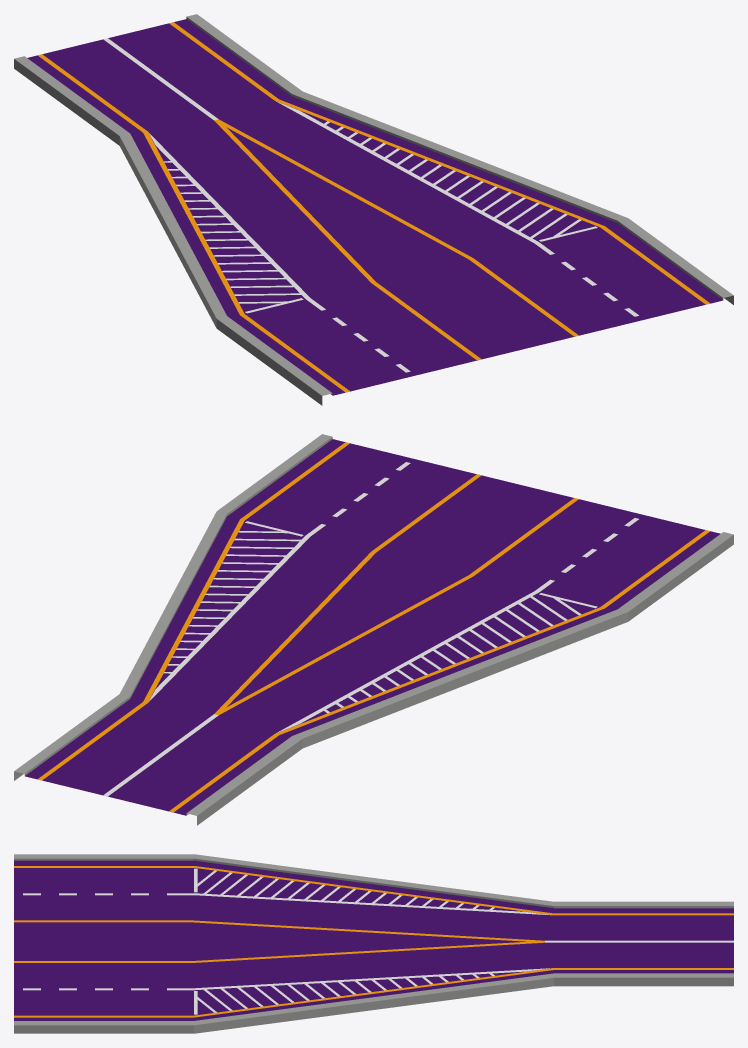
The model's file is Road_C_2L_1_3.fbx.
3 renders of one model, top to bottom at view 1: azimuth 30°, elevation 25°; view 2: azimuth 150°, elevation 25°; view 3: azimuth 270°, elevation 25°, orthographic. The views are drawn at different scales.
Visible parts, largest first — view 1: Road_C_2L_1_3; view 2: Road_C_2L_1_3; view 3: Road_C_2L_1_3.
Boxes of the visible parts, <box> form: Road_C_2L_1_3: <box>14,14,733,405</box>; Road_C_2L_1_3: <box>14,434,733,825</box>; Road_C_2L_1_3: <box>14,854,733,1033</box>.
Bounding box in the file's own units: 1800 × 41.48 × 3200.
